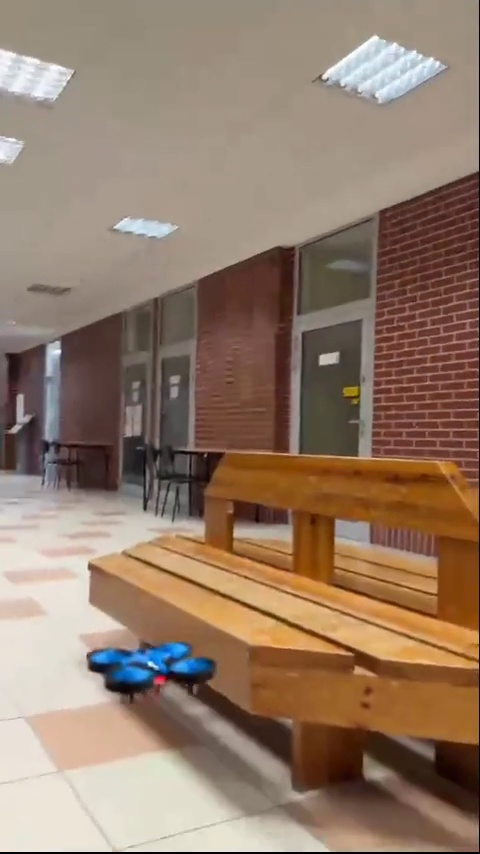drone: (87, 644, 212, 697)
